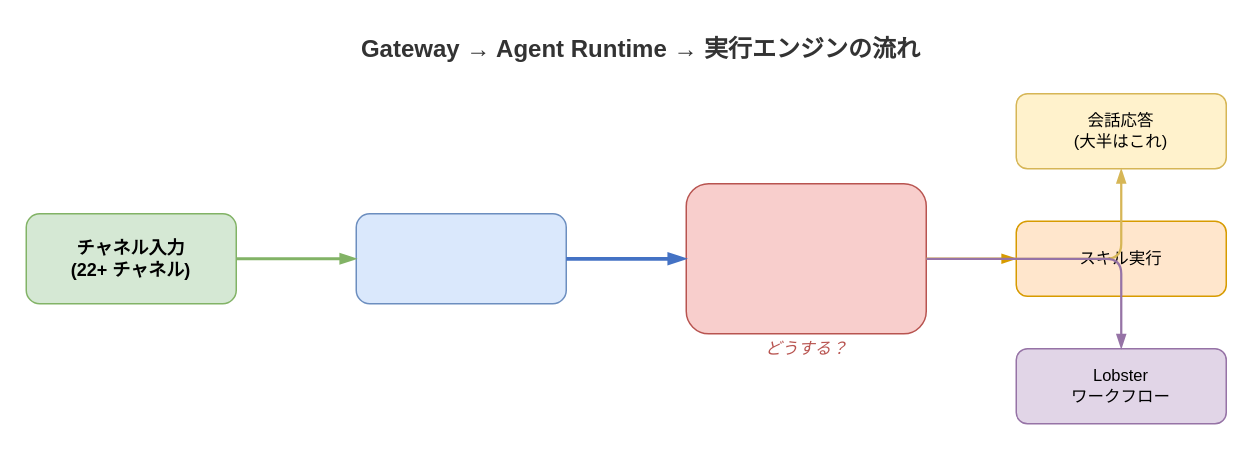
Image size: 1253x450. Some labels were removed from this diagram. Each missing label, with the centre of its shape:
"Agent Runtime (LLM)" belongs at point (805, 258).
"Gateway (正規化・中継)" belongs at point (460, 258).
